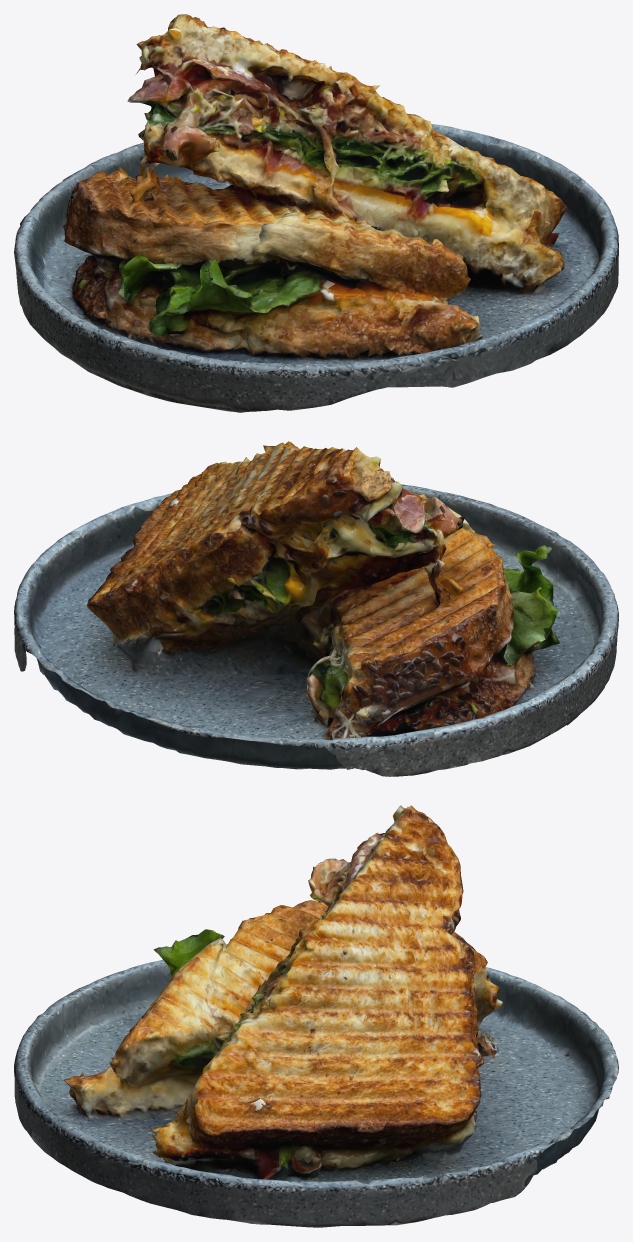
The model's file is blendersandwich.glb.
3 renders of one model, top to bottom at view 1: azimuth 30°, elevation 25°; view 2: azimuth 150°, elevation 25°; view 3: azimuth 270°, elevation 25°, orthographic.
Visible parts, largest first — view 1: Polygon; view 2: Polygon; view 3: Polygon.
Part boxes in pixels (x1=…): Polygon: x1=14, y1=14, x2=618, y2=412; Polygon: x1=14, y1=441, x2=618, y2=776; Polygon: x1=14, y1=805, x2=618, y2=1227.
Bounding box in the file's own units: 82.46 × 41.47 × 82.68.
Materials: 1 (1 with a texture image).
